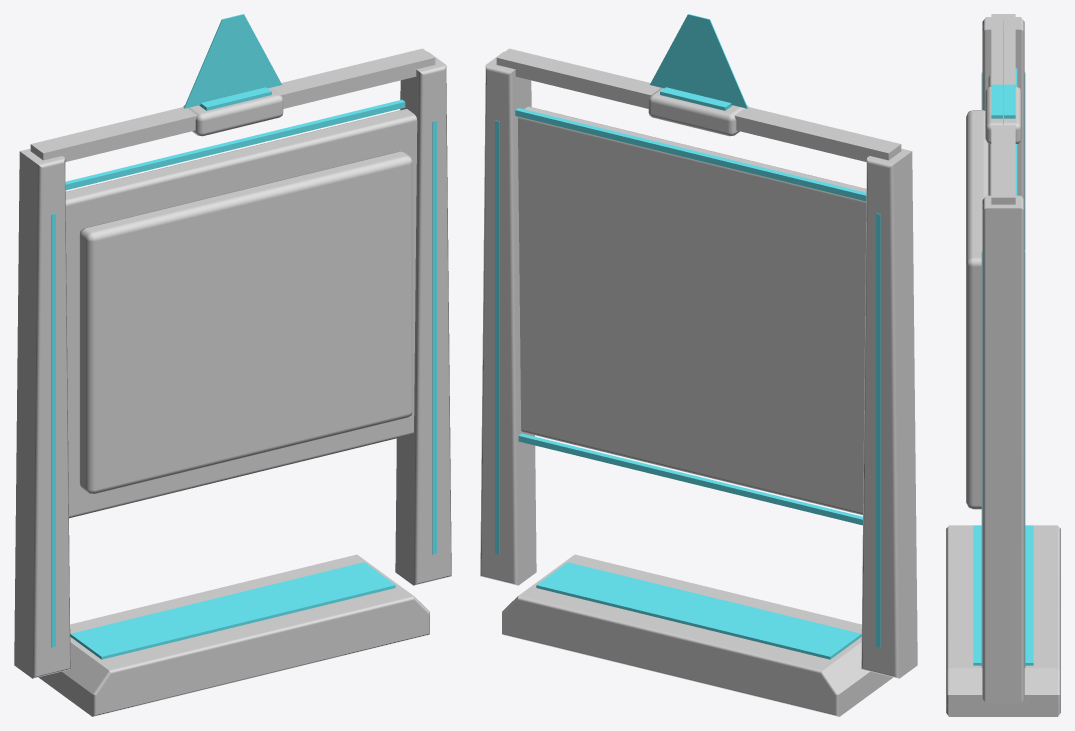
File: HoloPanel.glb
The picture shows the model from 3 angles, left to right: view 1: azimuth 30°, elevation 25°; view 2: azimuth 150°, elevation 25°; view 3: azimuth 270°, elevation 25°; orthographic projection. The views are drawn at different scales.
Parts seen in each view (by area): view 1: Body, Glow; view 2: Body, Glow; view 3: Body, Glow.
Boxes of the visible parts, left/top/right/bottom form: Body: left=14, top=48, right=451, bottom=716; Glow: left=51, top=14, right=436, bottom=659; Body: left=480, top=48, right=917, bottom=716; Glow: left=495, top=14, right=880, bottom=659; Body: left=946, top=14, right=1060, bottom=716; Glow: left=973, top=20, right=1033, bottom=667.
Bounding box in the file's own units: 7.7 × 11.2 × 1.9.
